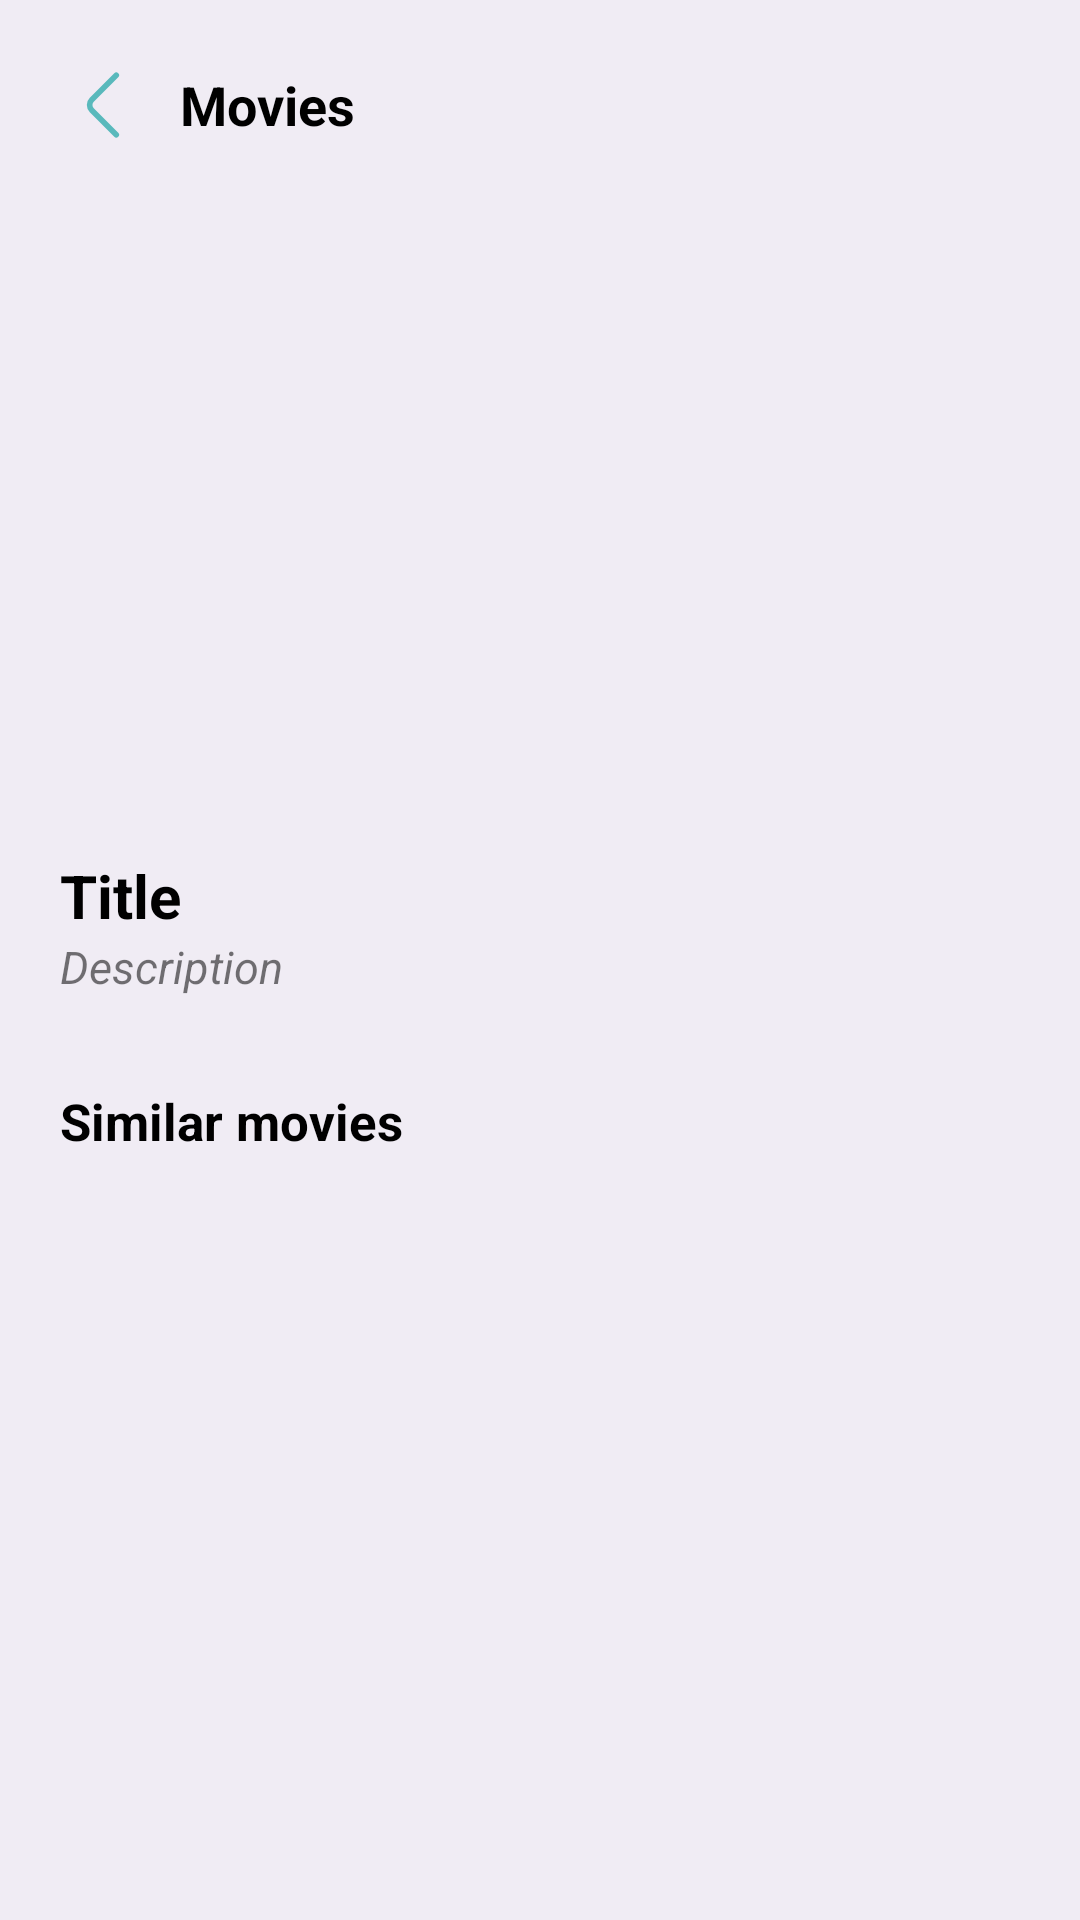

Locate icon controls on the screen. Image size 1080px×1920px, boxes as (x1, y1, x2, y2).
backicon: (87, 72, 119, 138)
